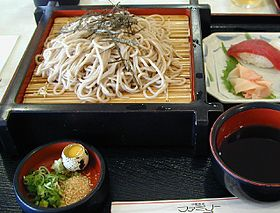Soba: (33, 10, 191, 106)
